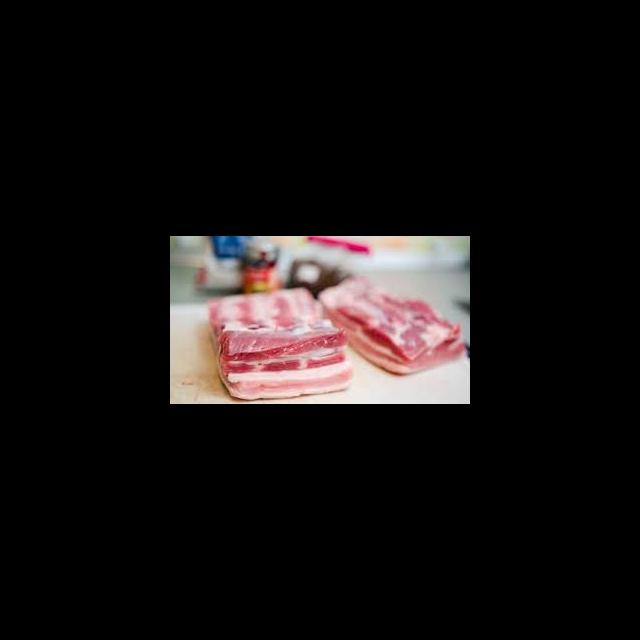pork: (218, 323, 347, 399), (353, 292, 463, 376)
